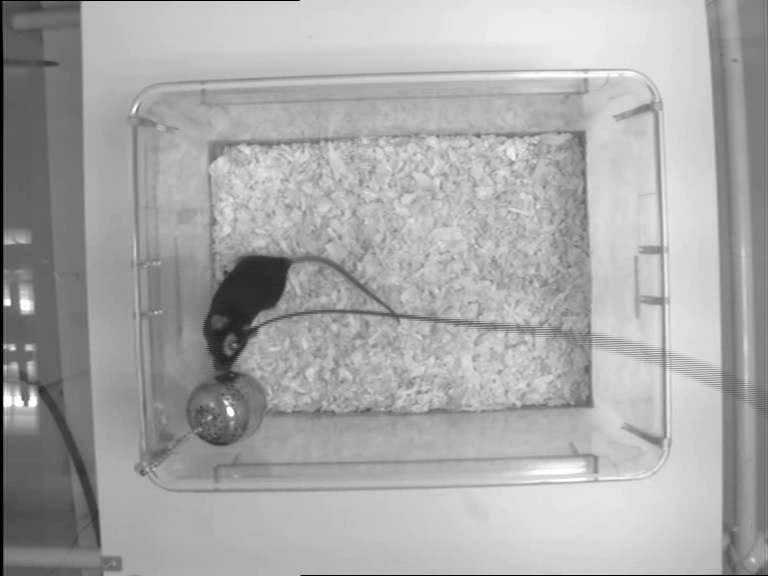mice: (201, 250, 406, 380)
